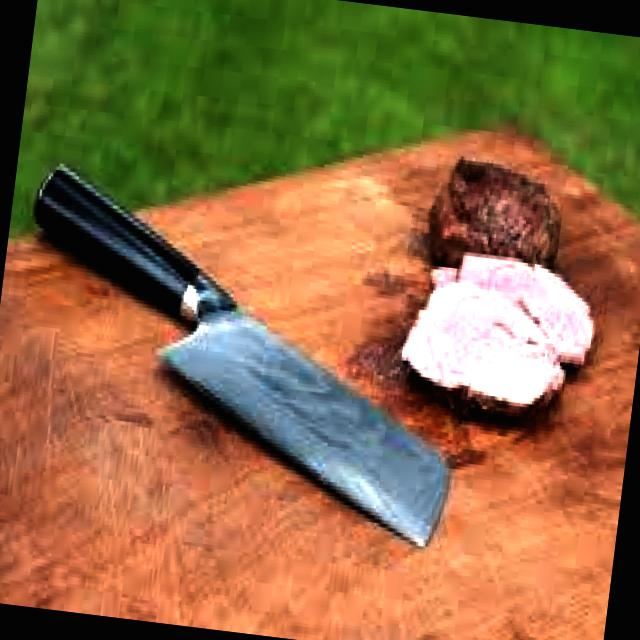cleaver: (0, 149, 470, 561)
